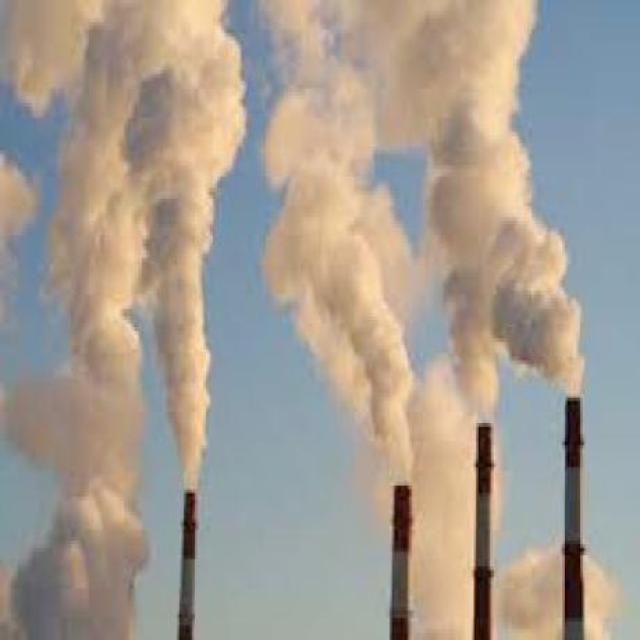Smoke: (245, 0, 598, 428), (0, 0, 245, 483), (406, 433, 624, 640), (14, 491, 155, 640)
